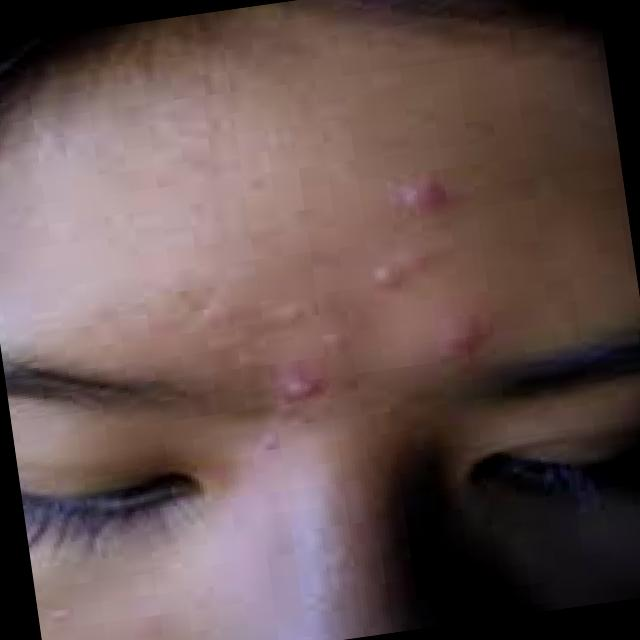nodule: (434, 312, 492, 361), (402, 174, 452, 216), (276, 376, 328, 404), (370, 261, 410, 296)
